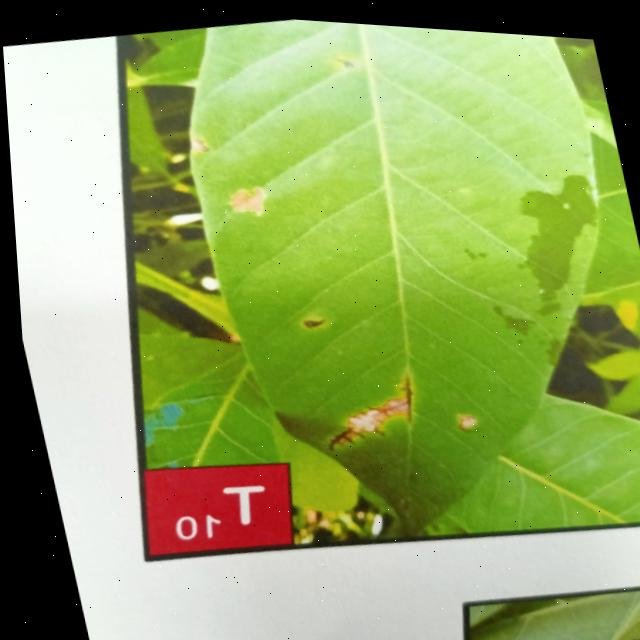Corynespora: (317, 419, 364, 450), (389, 369, 413, 419)
Leaf-Blight: (335, 388, 407, 434)
